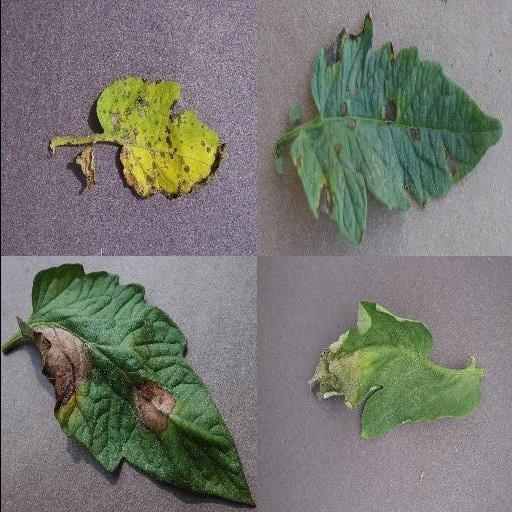Early Blight: (289, 13, 505, 245)
Late Blight: (18, 263, 254, 507), (308, 301, 482, 441)
Septoria: (94, 77, 228, 199)
